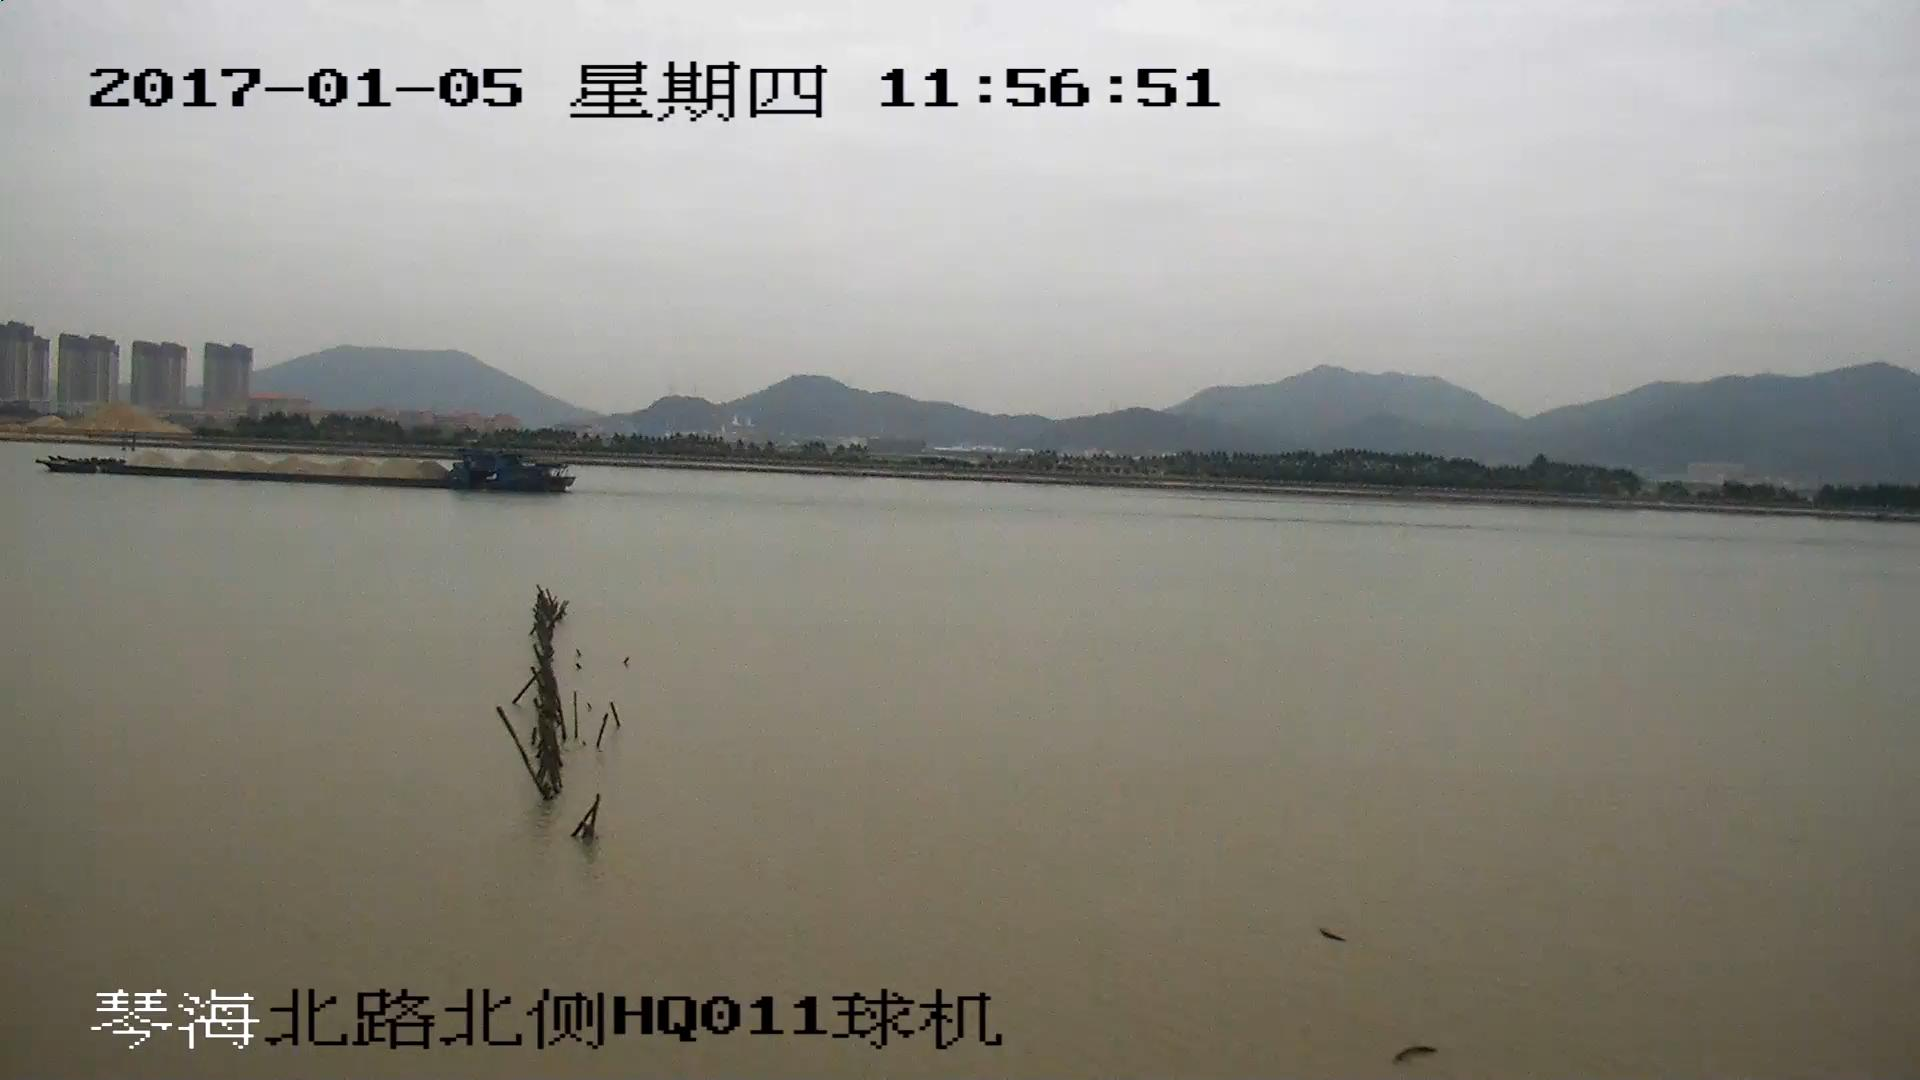ore carrier: (46, 442, 572, 498)
